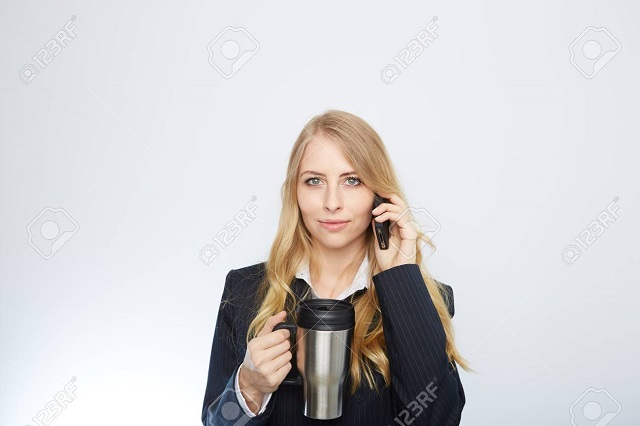phone: (372, 196, 409, 257)
talk: (297, 165, 420, 269)
